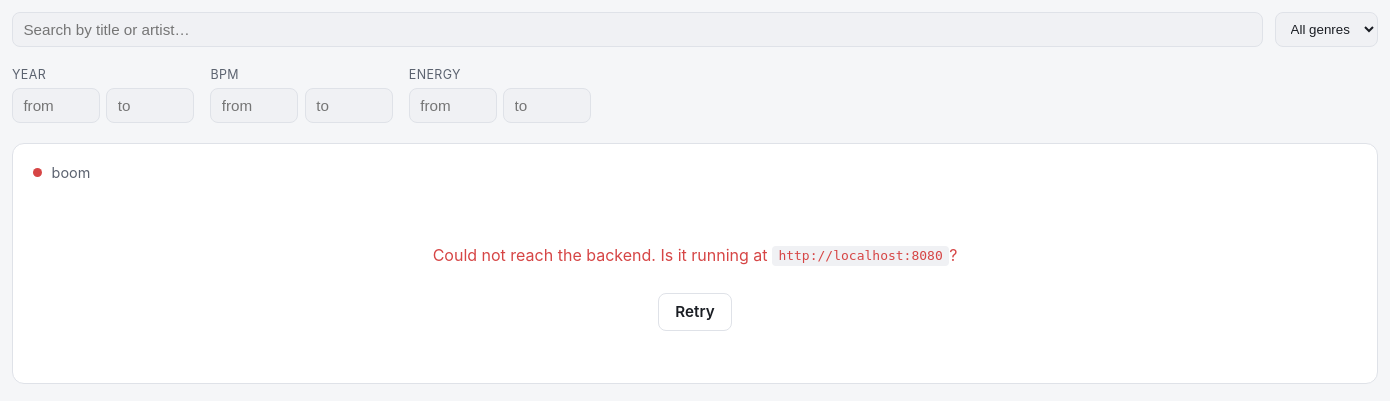
Test: BrowsePanel › retrying after an error re-issues the search and can recover
Expected: the text "Could not reach the backend" is shown, [433,245,768,265]
Click the button "Retry": coordinates (695, 312) [658,293,732,331]
Wait 300 ms
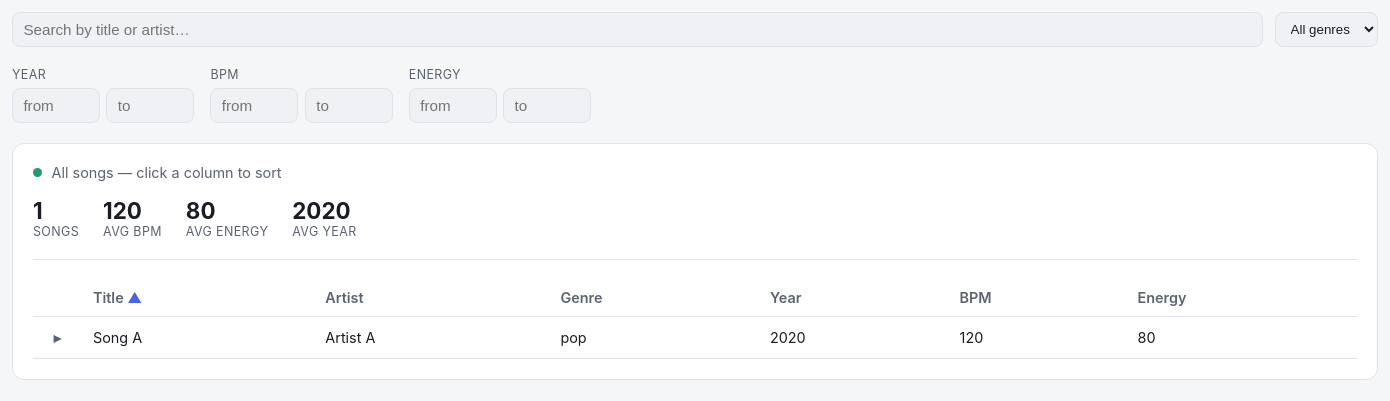
Now the text "Song A" is shown, box [81,316,313,359]
